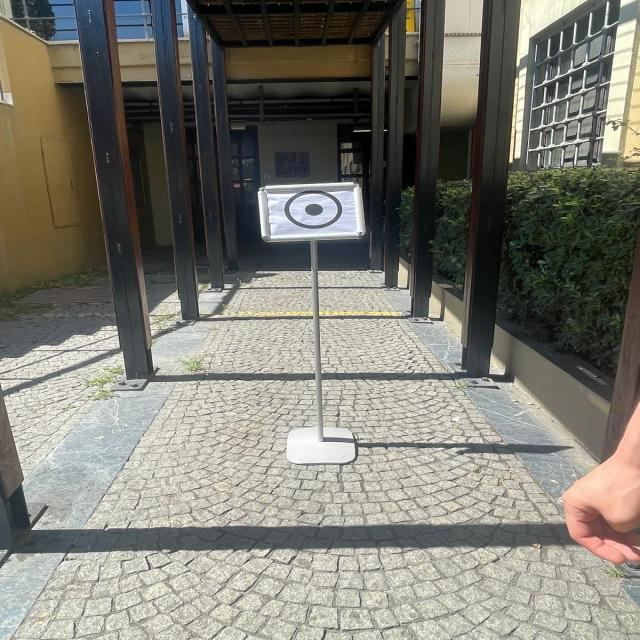Target: (243, 174, 384, 248)
inner: (299, 198, 331, 222)
